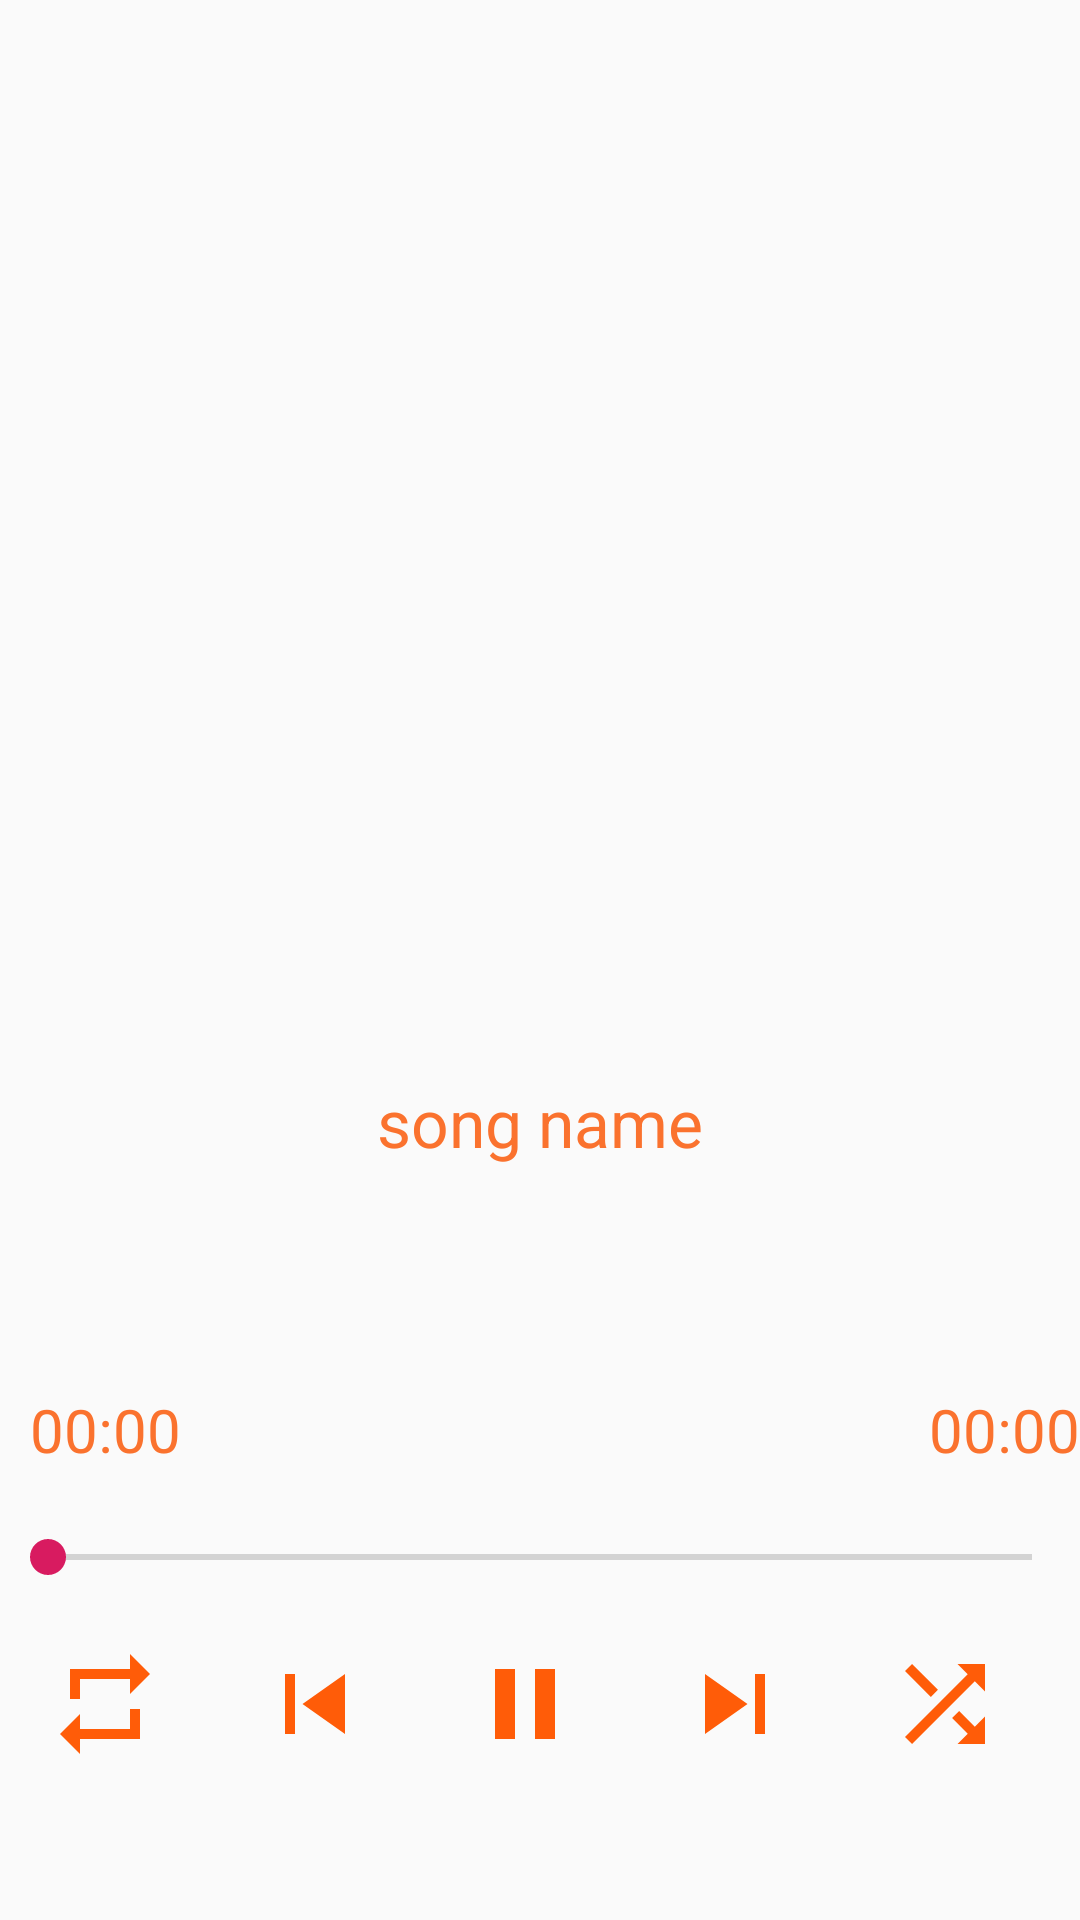

Icons on this 1080px x 1920px Android screen, each with the point to tap as (x=x, y=y):
next: (x=735, y=1704)
pause: (x=525, y=1704)
previous: (x=315, y=1704)
repeat: (x=105, y=1704)
shuffle: (x=945, y=1704)
